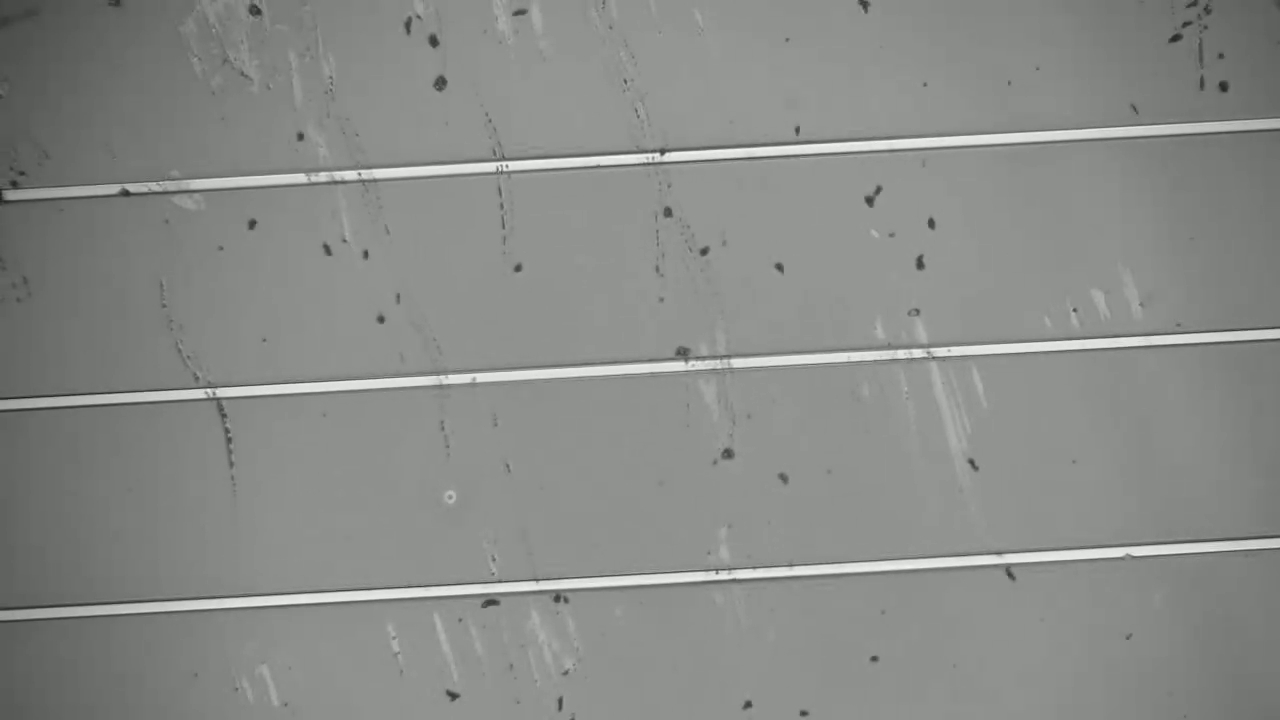stains_enbedded: (649, 141, 674, 170), (113, 172, 135, 201)
